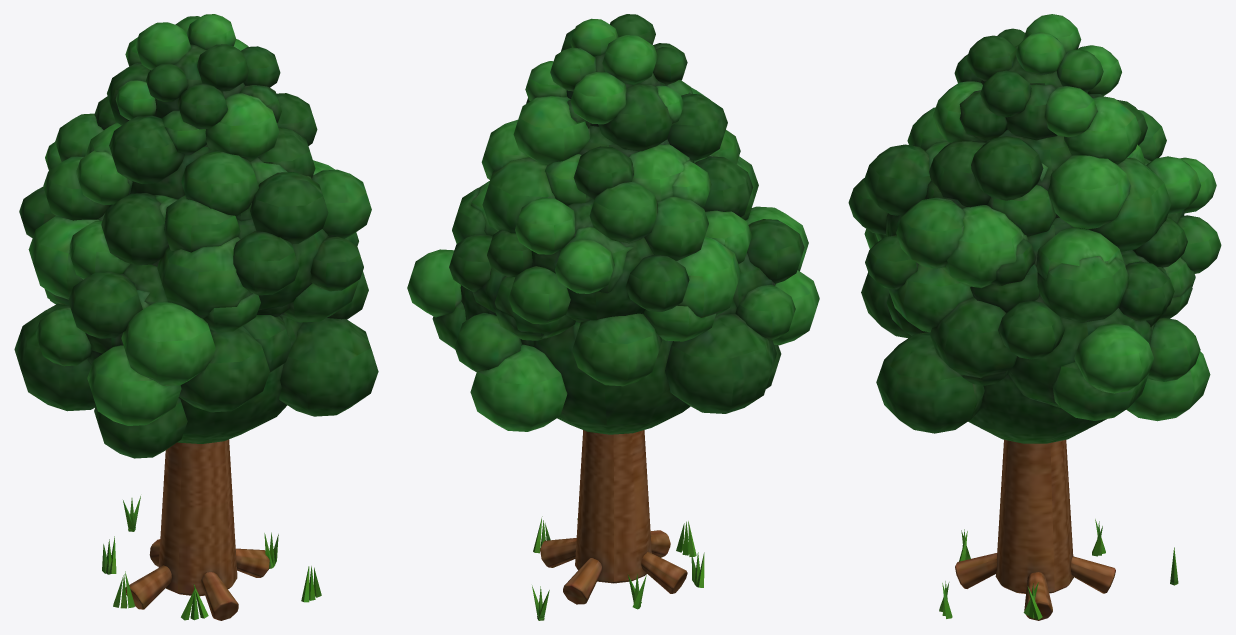
Rendered from mamey_tree.glb.
3 views of the same model, side by side, from view 1: azimuth 30°, elevation 25°; view 2: azimuth 150°, elevation 25°; view 3: azimuth 270°, elevation 25° (orthographic). The views are drawn at different scales.
Parts seen in each view (by area): view 1: crown, mamey_tree; view 2: crown, mamey_tree; view 3: crown, mamey_tree.
Boxes of the visible parts, left/top/right/bottom form: crown: left=14, top=14, right=378, bottom=458; mamey_tree: left=102, top=439, right=321, bottom=620; crown: left=407, top=14, right=819, bottom=434; mamey_tree: left=532, top=430, right=704, bottom=620; crown: left=848, top=14, right=1221, bottom=443; mamey_tree: left=939, top=439, right=1178, bottom=620.
Size of the model in its own units: 0.925 by 1.49 by 0.8913.
Materials: 1 (1 with a texture image).
